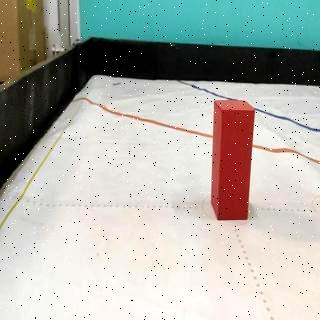redbox: (211, 97, 255, 221)
